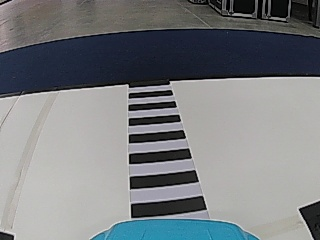CrossWalk: (125, 82, 207, 212)
